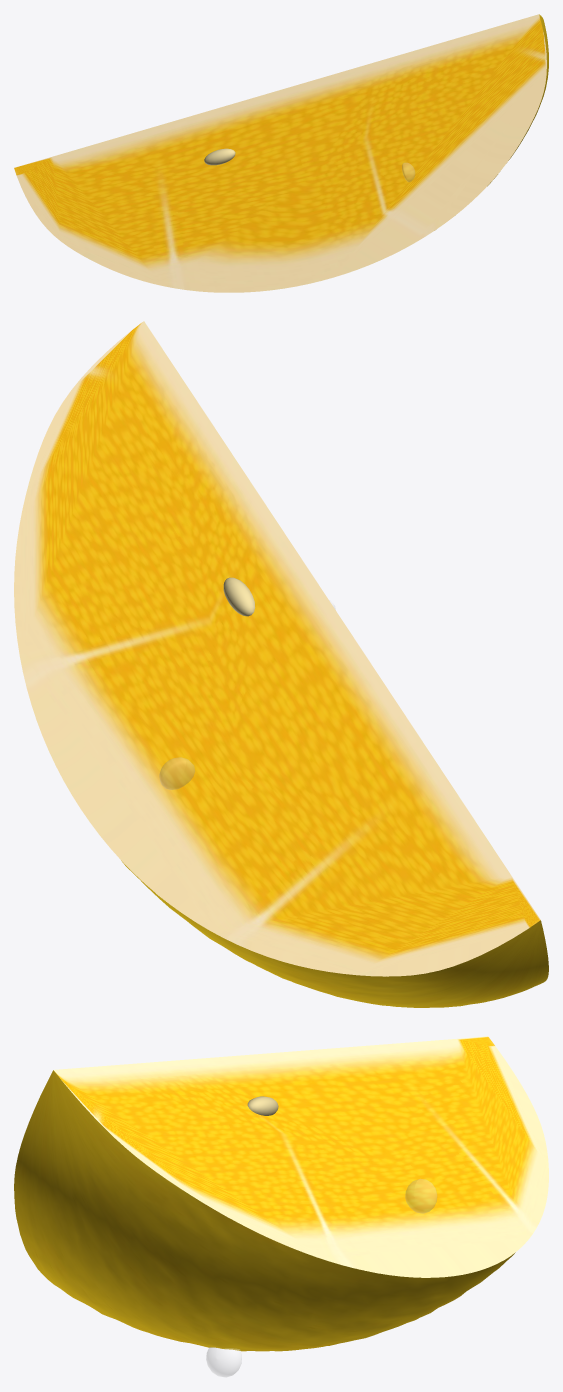
Rendered from lemon-wedge.glb.
The picture shows the model from 3 angles, top to bottom: view 1: azimuth 30°, elevation 25°; view 2: azimuth 150°, elevation 25°; view 3: azimuth 270°, elevation 25°; orthographic projection. The views are drawn at different scales.
Parts seen in each view (by area): view 1: lemon-pulp-wedges, object 3; view 2: lemon-pulp-wedges, lemon-peel-rind, object 4, object 3; view 3: lemon-pulp-wedges, lemon-peel-rind, object 4, object 3.
Boxes of the visible parts, bbox=[...] form: lemon-pulp-wedges: bbox=[14, 14, 546, 292]; object 3: bbox=[204, 148, 235, 165]; lemon-pulp-wedges: bbox=[14, 321, 540, 976]; lemon-peel-rind: bbox=[121, 860, 548, 1007]; object 4: bbox=[159, 600, 335, 789]; object 3: bbox=[223, 577, 255, 616]; lemon-pulp-wedges: bbox=[53, 1036, 548, 1277]; lemon-peel-rind: bbox=[14, 1070, 515, 1351]; object 4: bbox=[206, 1179, 436, 1377]; object 3: bbox=[247, 1096, 278, 1115].
Bounding box in the file's own units: 0.0698 × 0.0437 × 0.0517.
Materials: 4 (2 with a texture image).
